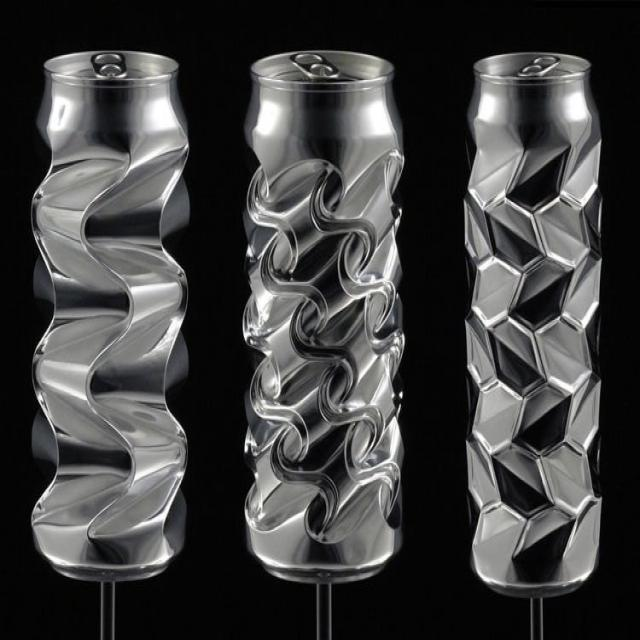non-organic waste: (230, 33, 421, 588), (25, 36, 203, 593), (460, 32, 614, 594)
